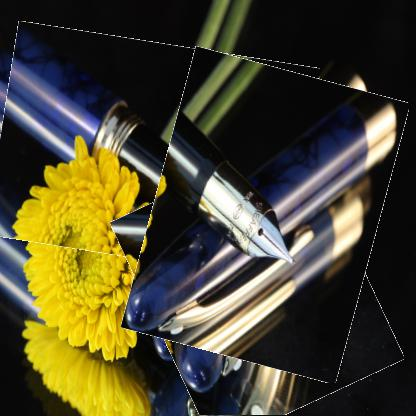Pen: (138, 58, 393, 373), (0, 32, 314, 271), (131, 150, 385, 415)
